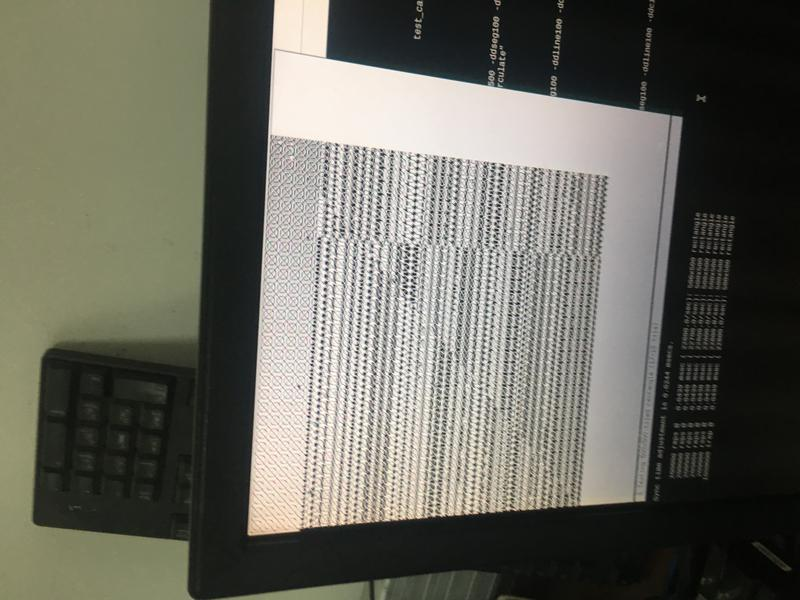xrandr_pass: (216, 38, 693, 543)
